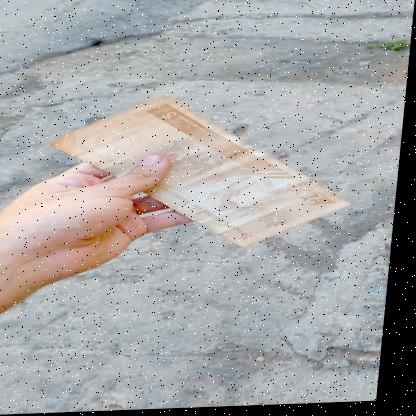five-back-vef: (46, 90, 364, 255)
